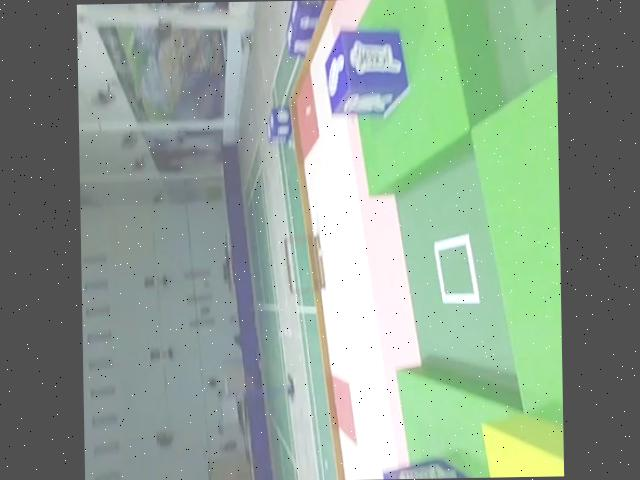R2 Fake Blue: (322, 27, 409, 117), (384, 454, 489, 479)
